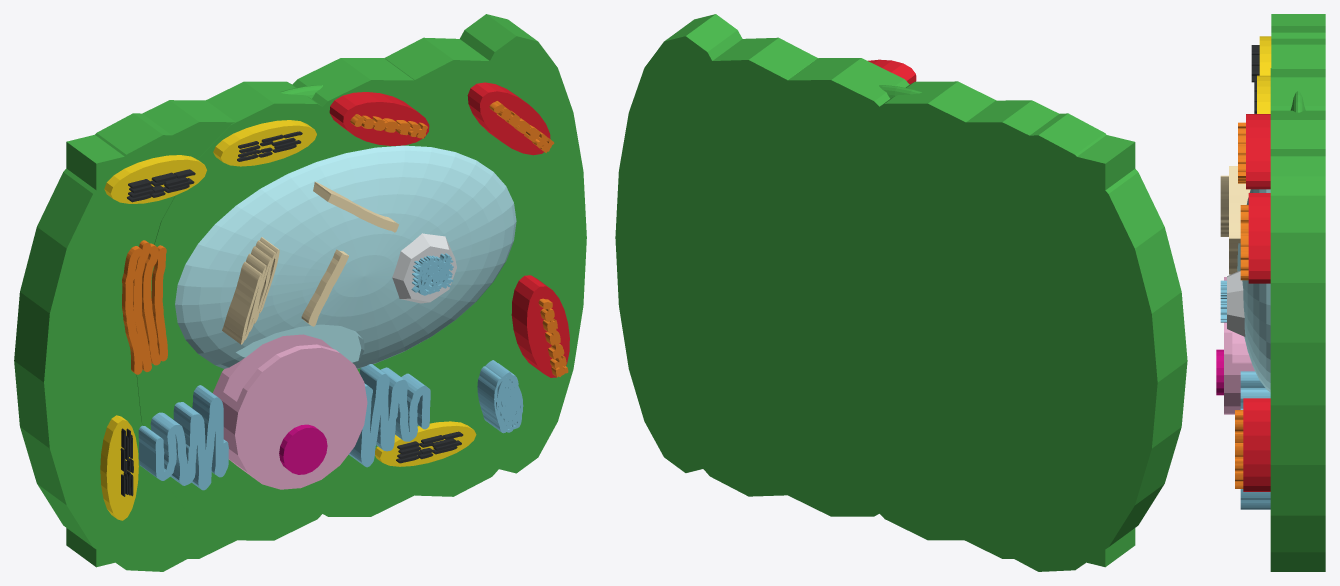
The model's file is Cell.obj.
3 renders of one model, left to right at view 1: azimuth 30°, elevation 25°; view 2: azimuth 150°, elevation 25°; view 3: azimuth 270°, elevation 25°, orthographic. The views are drawn at different scales.
Visible parts, largest first — view 1: group_0_4634441, group_0_11593967, group_0_15708628, group_0_8768998, group_0_15277357, group_0_16768282, group_0_16089887, group_0_16311991, group_0_2829873, group_0_14541540, group_0_14093196; view 2: group_0_4634441; view 3: group_0_4634441, group_0_15277357, group_0_11593967, group_0_16089887, group_0_16311991, group_0_15708628, group_0_8768998, group_0_16768282, group_0_14541540, group_0_2829873, group_0_14093196.
Boxes of the visible parts, left/top/right/bottom form: group_0_4634441: left=14, top=14, right=586, bottom=571; group_0_11593967: left=175, top=145, right=516, bottom=368; group_0_15708628: left=213, top=334, right=367, bottom=489; group_0_8768998: left=138, top=253, right=523, bottom=490; group_0_15277357: left=329, top=82, right=569, bottom=377; group_0_16768282: left=100, top=120, right=476, bottom=520; group_0_16089887: left=122, top=101, right=568, bottom=377; group_0_16311991: left=222, top=181, right=398, bottom=344; group_0_2829873: left=120, top=131, right=463, bottom=496; group_0_14541540: left=392, top=233, right=456, bottom=303; group_0_14093196: left=279, top=424, right=327, bottom=474; group_0_4634441: left=615, top=14, right=1187, bottom=571; group_0_4634441: left=1270, top=14, right=1325, bottom=571; group_0_15277357: left=1243, top=114, right=1270, bottom=491; group_0_11593967: left=1237, top=189, right=1270, bottom=392; group_0_16089887: left=1235, top=122, right=1248, bottom=488; group_0_16311991: left=1220, top=166, right=1250, bottom=274; group_0_15708628: left=1224, top=277, right=1254, bottom=414; group_0_8768998: left=1220, top=280, right=1270, bottom=509; group_0_16768282: left=1257, top=36, right=1271, bottom=113; group_0_14541540: left=1227, top=271, right=1245, bottom=336; group_0_2829873: left=1251, top=45, right=1259, bottom=113; group_0_14093196: left=1216, top=349, right=1223, bottom=395.
Size of the model in its own units: 135 by 107 by 26.
